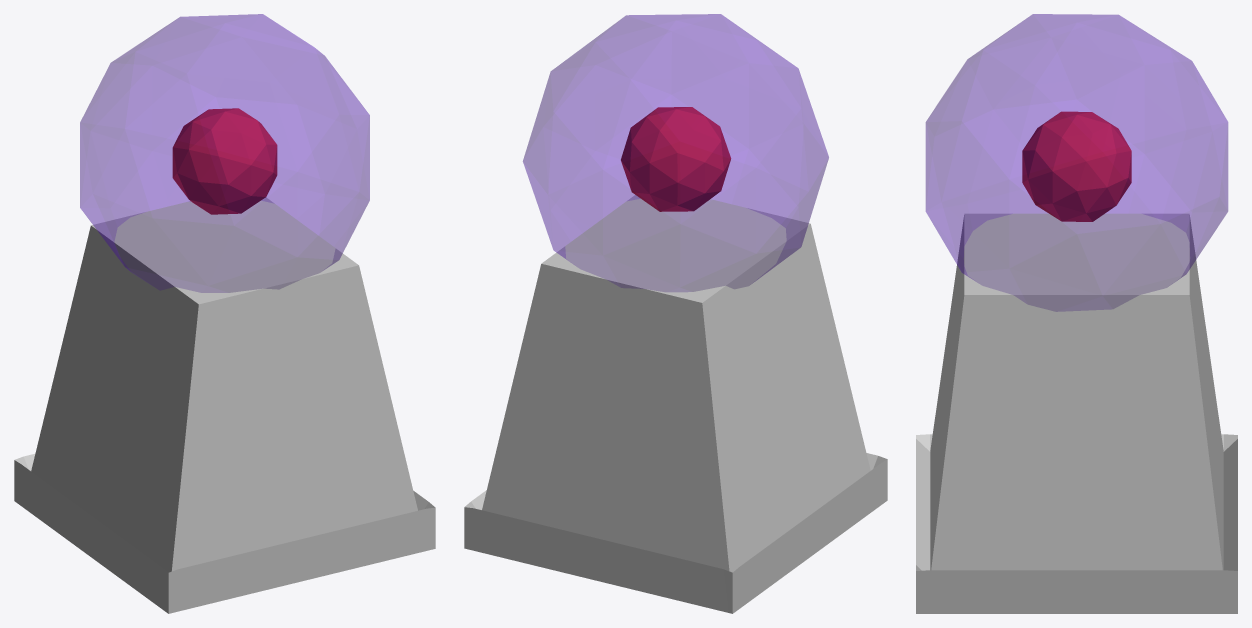
Rendered from tower.obj.
The picture shows the model from 3 angles, left to right: view 1: azimuth 30°, elevation 25°; view 2: azimuth 150°, elevation 25°; view 3: azimuth 270°, elevation 25°; orthographic projection. The views are drawn at different scales.
Visible parts, largest first — view 1: tartó, külső_gömb, belső_gömb; view 2: tartó, külső_gömb, belső_gömb; view 3: tartó, külső_gömb, belső_gömb.
Boxes of the visible parts, box(x1,y1,x2,y2) form: tartó: box(14, 197, 435, 613); külső_gömb: box(80, 14, 369, 292); belső_gömb: box(172, 108, 277, 214); tartó: box(464, 195, 887, 613); külső_gömb: box(523, 14, 828, 291); belső_gömb: box(621, 107, 731, 211); tartó: box(916, 213, 1237, 613); külső_gömb: box(925, 14, 1228, 311); belső_gömb: box(1022, 111, 1131, 221).
Bounding box in the file's own units: 2 × 3.59 × 2.
